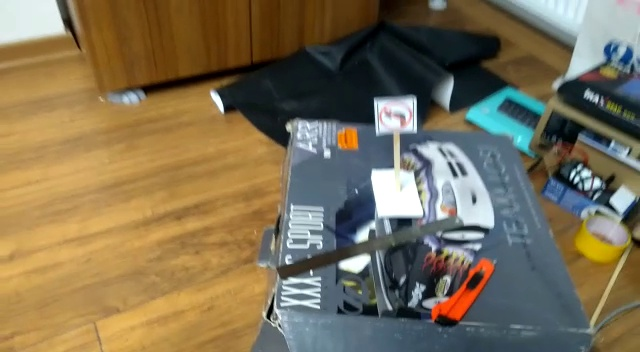sola_donulmez: (378, 98, 414, 133)
